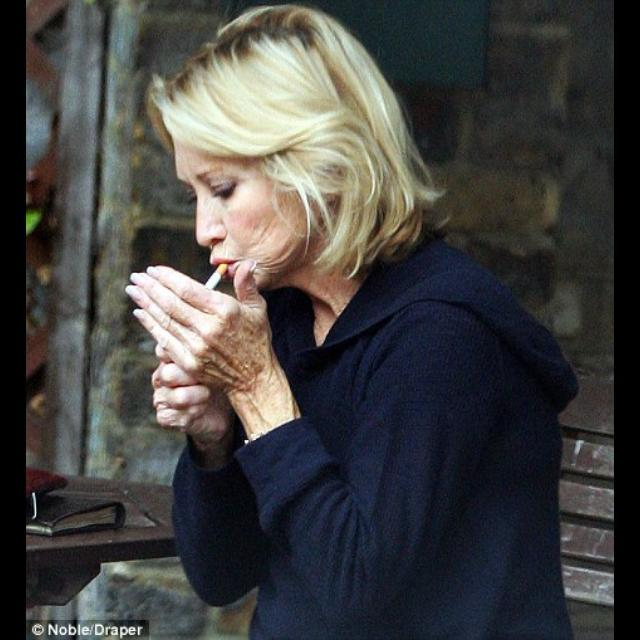rokok: (196, 258, 228, 294)
